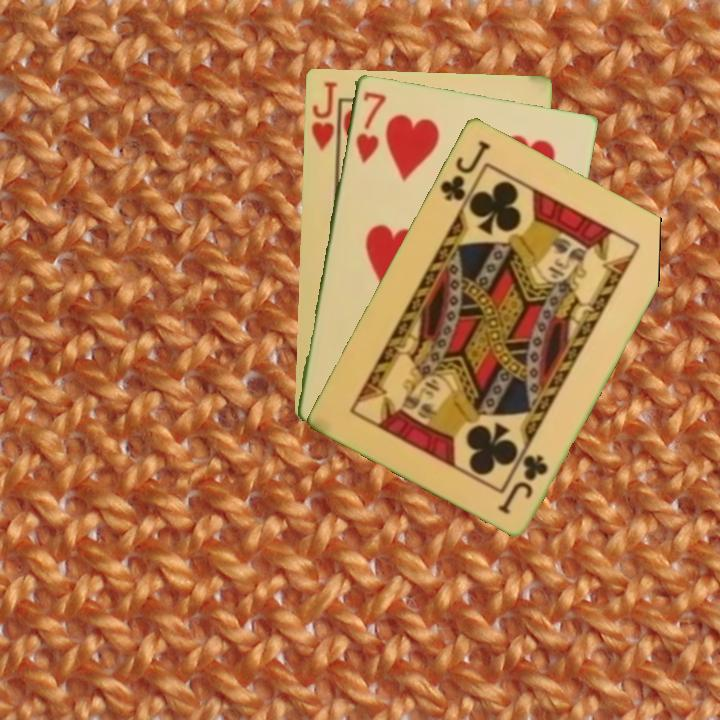7h: (352, 87, 389, 166)
Jc: (436, 136, 493, 204), (495, 450, 551, 517)
Jh: (308, 77, 342, 162)
